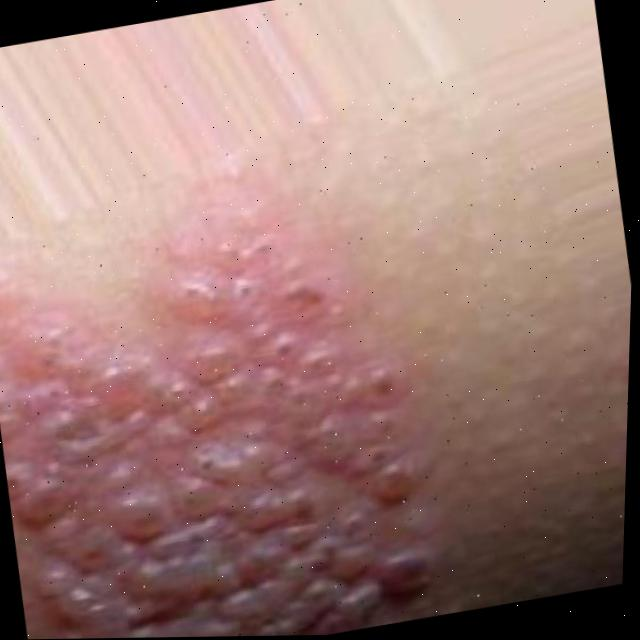Shingles: (0, 175, 502, 640)
